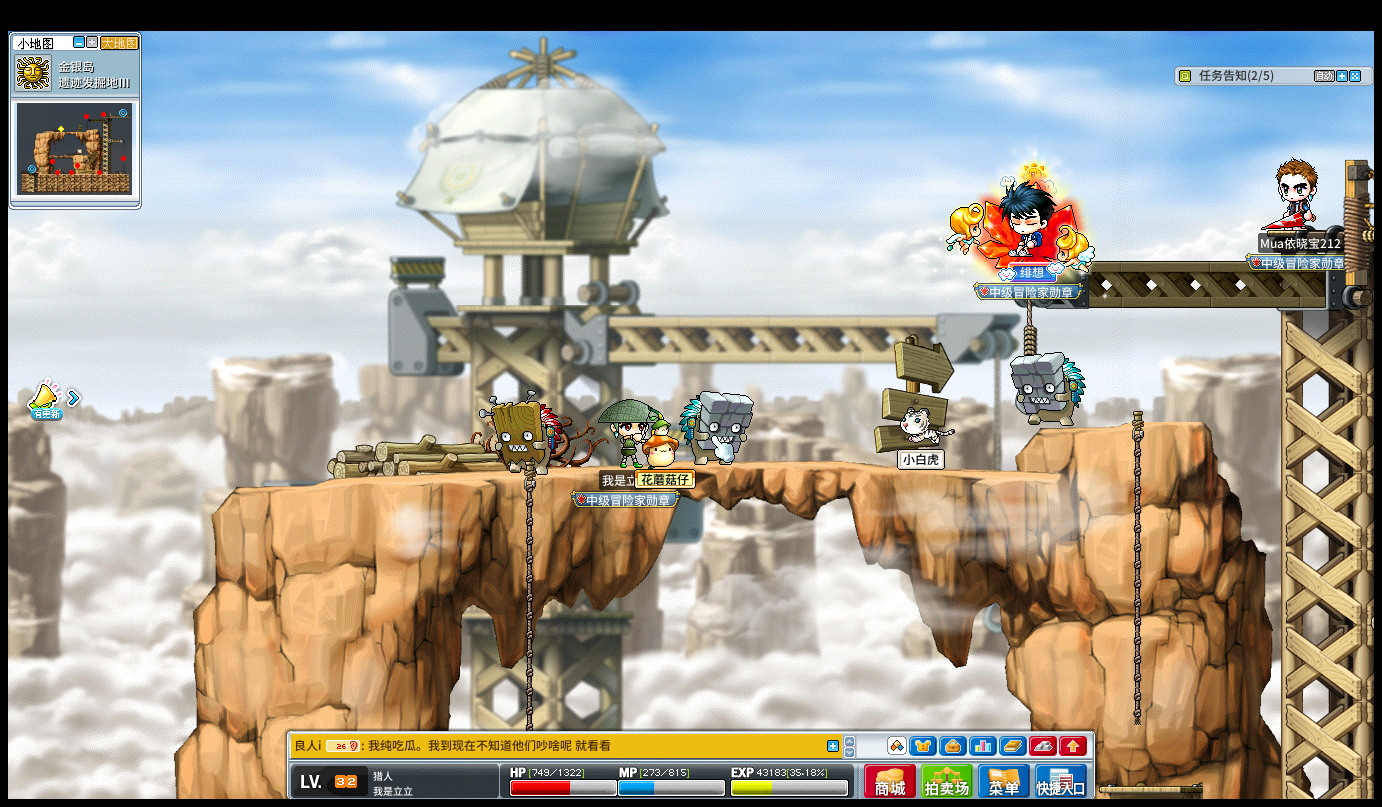floor: (200, 455, 1165, 484), (544, 458, 1060, 475), (1033, 418, 1208, 434)
monster: (479, 390, 564, 476), (1009, 351, 1086, 430), (680, 389, 754, 467)
rope: (1129, 409, 1144, 726), (522, 459, 535, 712), (523, 462, 536, 665)
